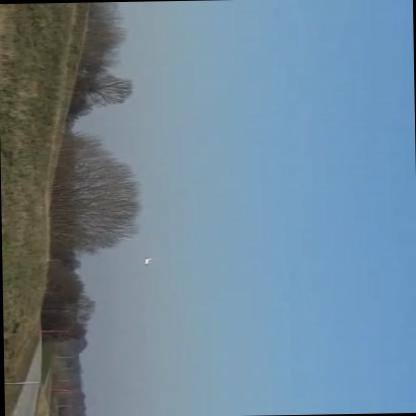plane: (140, 256, 154, 268)
